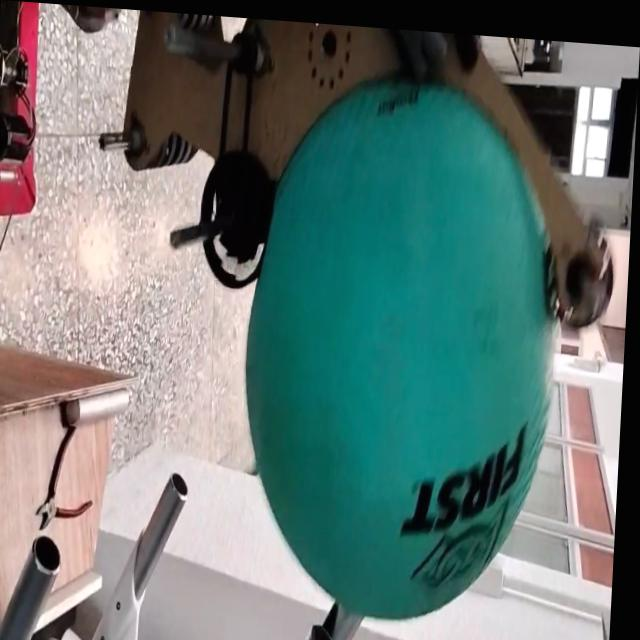ALGAE: (232, 82, 575, 632)
